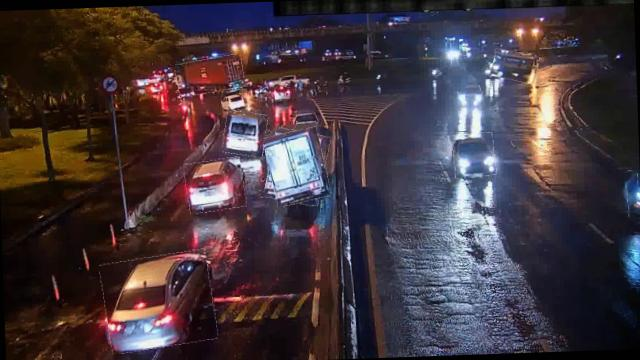Bike: (625, 171, 640, 219)
Bus: (265, 128, 330, 206), (222, 110, 268, 157), (491, 49, 539, 83), (222, 90, 248, 110)
Car: (100, 252, 216, 352), (183, 158, 245, 213), (453, 134, 495, 178)
Truck: (266, 128, 330, 206), (176, 56, 245, 96)
